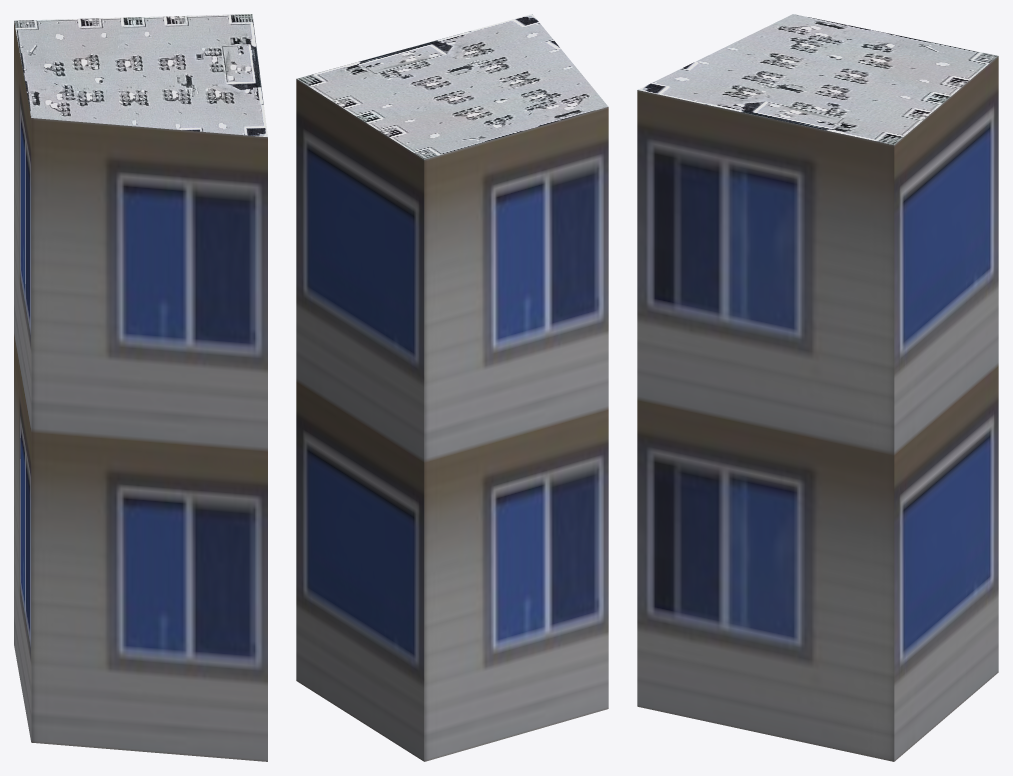
Rendered from ResTex__4582.fbx.
3 renders of one model, left to right at view 1: azimuth 30°, elevation 25°; view 2: azimuth 150°, elevation 25°; view 3: azimuth 270°, elevation 25°, orthographic. The views are drawn at different scales.
Parts seen in each view (by area): view 1: CityEngineMaterial_23_m, CityEngineMaterial_4_m; view 2: CityEngineMaterial_23_m, CityEngineMaterial_4_m; view 3: CityEngineMaterial_23_m, CityEngineMaterial_4_m.
Part boxes in pixels (x1,y1,x2,y2): CityEngineMaterial_23_m: (14, 21, 267, 761); CityEngineMaterial_4_m: (14, 14, 267, 137); CityEngineMaterial_23_m: (296, 79, 608, 761); CityEngineMaterial_4_m: (297, 14, 608, 159); CityEngineMaterial_23_m: (637, 56, 998, 761); CityEngineMaterial_4_m: (638, 14, 997, 144).
Bounding box in the file's own units: 2.74 × 6 × 3.18.
2 materials, 2 textured.
